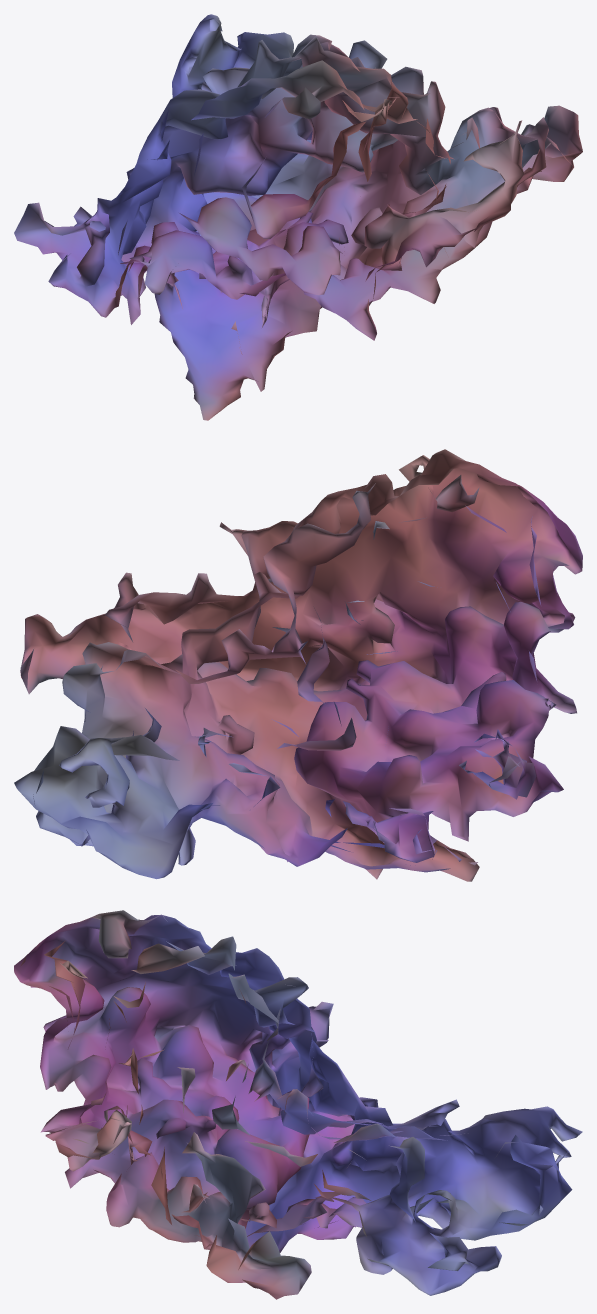
The model's file is Nebula_4_out.glb.
3 renders of one model, top to bottom at view 1: azimuth 30°, elevation 25°; view 2: azimuth 150°, elevation 25°; view 3: azimuth 270°, elevation 25°, orthographic. The views are drawn at different scales.
Visible parts, largest first — view 1: Nebula_4; view 2: Nebula_4; view 3: Nebula_4.
Part boxes in pixels (x1=…): Nebula_4: x1=14, y1=14, x2=582, y2=420; Nebula_4: x1=14, y1=449, x2=582, y2=881; Nebula_4: x1=14, y1=910, x2=582, y2=1299.
Bounding box in the file's own units: 1.2 × 0.8086 × 1.15.
